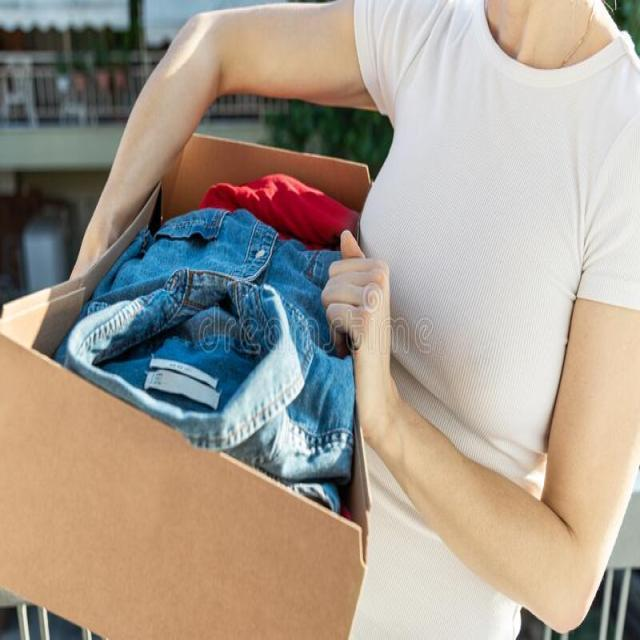clothes: (111, 153, 322, 492)
